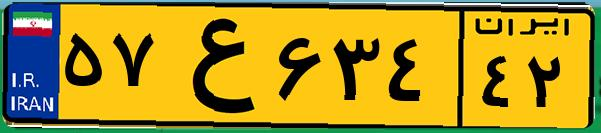2: (525, 38, 570, 115)
3: (330, 28, 385, 110)
4: (385, 28, 445, 110), (475, 38, 525, 113)
5: (57, 26, 110, 100)
6: (270, 28, 330, 110)
7: (110, 28, 158, 98)
ع: (158, 12, 270, 120)
